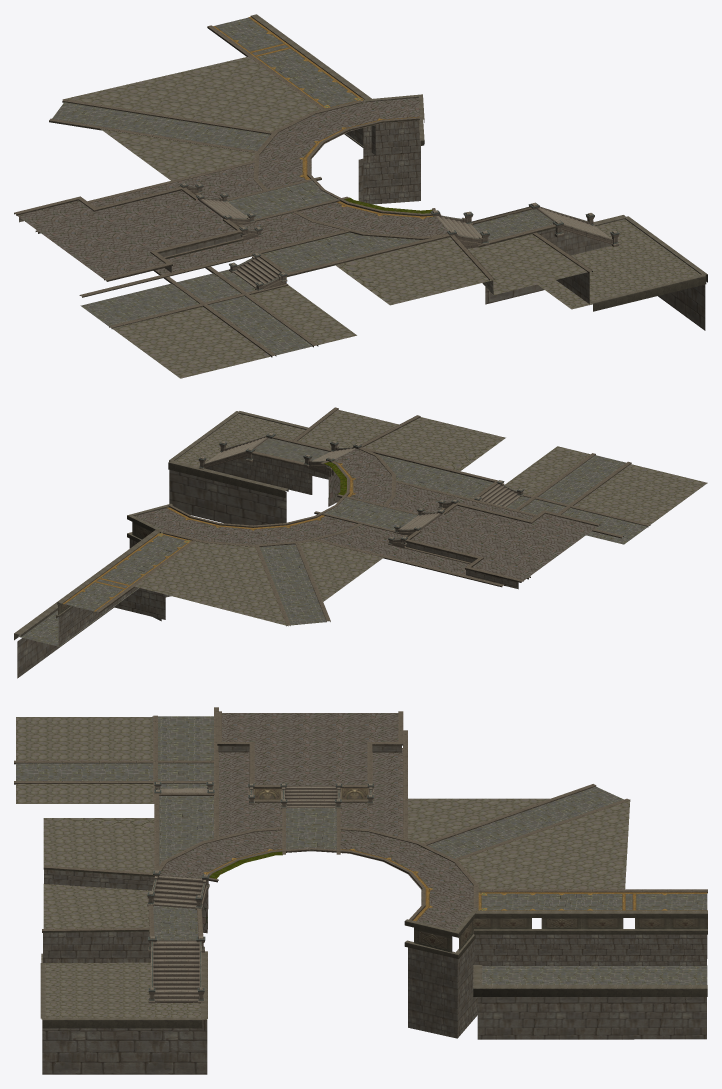
The model's file is terrain_city_zhuchengdibiao.FBX.
3 renders of one model, top to bottom at view 1: azimuth 30°, elevation 25°; view 2: azimuth 150°, elevation 25°; view 3: azimuth 270°, elevation 25°, orthographic. The views are drawn at different scales.
Parts seen in each view (by area): view 1: Object140; view 2: Object140; view 3: Object140.
Boxes of the visible parts, x1,y1,x2,y2 form: Object140: (14, 14, 707, 378); Object140: (14, 407, 707, 678); Object140: (14, 707, 707, 1074).
Bounding box in the file's own units: 118 × 131 × 24.59.
